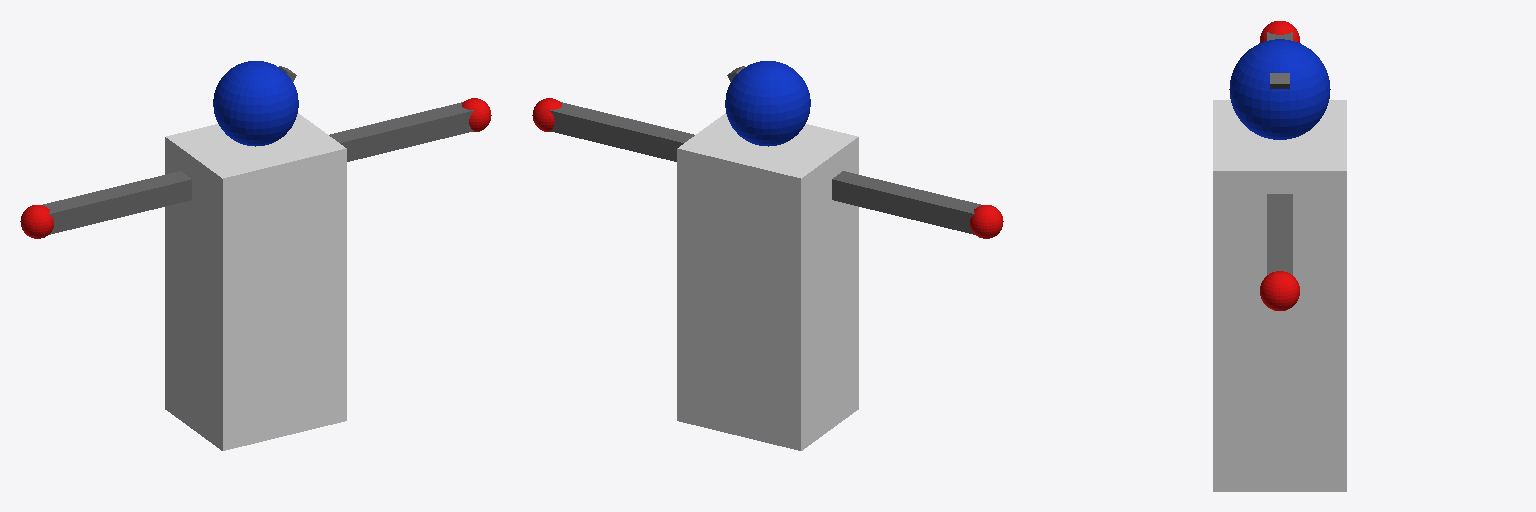
URDF robot description (testbot):
<?xml version="1.0" ?>
<!-- =================================================================================== -->
<!-- |    This document was autogenerated by xacro from install/testbot/share/testbot/urdf/testbot.urdf.xacro | -->
<!-- |    EDITING THIS FILE BY HAND IS NOT RECOMMENDED                                 | -->
<!-- =================================================================================== -->
<!--
  Tesla-bot style upper body.

  Kinematic chain (per the lesson):
      world -> head -> body -> shoulder -> upper_arm -> lower_arm -> hand

  world_to_head and head_to_body are fixed. Shoulders and elbows rotate
  about Z, so the arms swing in the XY plane like clock hands.
  At zero the hand is 0.3 + 0.3 = 0.6 m from the shoulder.
-->
<robot name="testbot">
  <material name="white">
    <color rgba="0.90 0.90 0.90 1.0"/>
  </material>
  <material name="grey">
    <color rgba="0.45 0.45 0.45 1.0"/>
  </material>
  <material name="blue">
    <color rgba="0.10 0.25 0.80 1.0"/>
  </material>
  <material name="red">
    <color rgba="0.90 0.10 0.10 1.0"/>
  </material>
  <!-- ============================ links ============================= -->
  <!-- Gazebo treats a root link named "world" as the fixed world frame -->
  <link name="world"/>
  <link name="head">
    <visual>
      <geometry>
        <sphere radius="0.15"/>
      </geometry>
      <origin rpy="0 0 0" xyz="0 0 0"/>
      <material name="blue"/>
    </visual>
    <collision>
      <geometry>
        <sphere radius="0.15"/>
      </geometry>
      <origin rpy="0 0 0" xyz="0 0 0"/>
    </collision>
    <inertial>
      <mass value="2.0"/>
      <origin rpy="0 0 0" xyz="0 0 0"/>
      <inertia ixx="0.018" ixy="0.0" ixz="0.0" iyy="0.018" iyz="0.0" izz="0.018"/>
    </inertial>
  </link>
  <!-- body frame at the top of the torso; the box reaches down to z = 0 -->
  <link name="body">
    <visual>
      <geometry>
        <box size="0.5 0.4 1.05"/>
      </geometry>
      <origin rpy="0 0 0" xyz="0 0 -0.525"/>
      <material name="white"/>
    </visual>
    <collision>
      <geometry>
        <box size="0.5 0.4 1.05"/>
      </geometry>
      <origin rpy="0 0 0" xyz="0 0 -0.525"/>
    </collision>
    <inertial>
      <mass value="10.0"/>
      <origin rpy="0 0 0" xyz="0 0 -0.525"/>
      <inertia ixx="1.0520833333333335" ixy="0.0" ixz="0.0" iyy="1.1270833333333334" iyz="0.0" izz="0.34166666666666673"/>
    </inertial>
  </link>
  <link name="upper_arm_right">
    <visual>
      <geometry>
        <box size="0.3 0.08 0.08"/>
      </geometry>
      <origin rpy="0 0 0" xyz="0.15 0 0"/>
      <material name="grey"/>
    </visual>
    <collision>
      <geometry>
        <box size="0.3 0.08 0.08"/>
      </geometry>
      <origin rpy="0 0 0" xyz="0.15 0 0"/>
    </collision>
    <inertial>
      <mass value="0.8"/>
      <origin rpy="0 0 0" xyz="0.15 0 0"/>
      <inertia ixx="0.0008533333333333334" ixy="0.0" ixz="0.0" iyy="0.006426666666666667" iyz="0.0" izz="0.006426666666666667"/>
    </inertial>
  </link>
  <link name="lower_arm_right">
    <visual>
      <geometry>
        <box size="0.3 0.08 0.08"/>
      </geometry>
      <origin rpy="0 0 0" xyz="0.15 0 0"/>
      <material name="grey"/>
    </visual>
    <collision>
      <geometry>
        <box size="0.3 0.08 0.08"/>
      </geometry>
      <origin rpy="0 0 0" xyz="0.15 0 0"/>
    </collision>
    <inertial>
      <mass value="0.5"/>
      <origin rpy="0 0 0" xyz="0.15 0 0"/>
      <inertia ixx="0.0005333333333333334" ixy="0.0" ixz="0.0" iyy="0.004016666666666667" iyz="0.0" izz="0.004016666666666667"/>
    </inertial>
  </link>
  <link name="hand_right">
    <visual>
      <geometry>
        <sphere radius="0.06"/>
      </geometry>
      <origin rpy="0 0 0" xyz="0 0 0"/>
      <material name="red"/>
    </visual>
    <collision>
      <geometry>
        <sphere radius="0.06"/>
      </geometry>
      <origin rpy="0 0 0" xyz="0 0 0"/>
    </collision>
    <inertial>
      <mass value="0.2"/>
      <origin rpy="0 0 0" xyz="0 0 0"/>
      <inertia ixx="0.00028799999999999995" ixy="0.0" ixz="0.0" iyy="0.00028799999999999995" iyz="0.0" izz="0.00028799999999999995"/>
    </inertial>
  </link>
  <!-- shoulder: revolute about Z -->
  <joint name="body_to_upper_arm_right" type="revolute">
    <parent link="body"/>
    <child link="upper_arm_right"/>
    <origin rpy="0 0 0" xyz="0.28 0 -0.1"/>
    <axis xyz="0 0 1"/>
    <limit effort="30.0" lower="-1.5708" upper="1.5708" velocity="2.0"/>
    <dynamics damping="0.5" friction="0.05"/>
  </joint>
  <!-- elbow: the joint the trajectory controller drives -->
  <joint name="upper_arm_to_lower_arm_right" type="revolute">
    <parent link="upper_arm_right"/>
    <child link="lower_arm_right"/>
    <origin rpy="0 0 0" xyz="0.3 0 0"/>
    <axis xyz="0 0 1"/>
    <limit effort="30.0" lower="-1.5708" upper="1.5708" velocity="2.0"/>
    <dynamics damping="0.1" friction="0.05"/>
  </joint>
  <joint name="lower_arm_to_hand_right" type="fixed">
    <parent link="lower_arm_right"/>
    <child link="hand_right"/>
    <origin rpy="0 0 0" xyz="0.3 0 0"/>
  </joint>
  <link name="upper_arm_left">
    <visual>
      <geometry>
        <box size="0.3 0.08 0.08"/>
      </geometry>
      <origin rpy="0 0 0" xyz="-0.15 0 0"/>
      <material name="grey"/>
    </visual>
    <collision>
      <geometry>
        <box size="0.3 0.08 0.08"/>
      </geometry>
      <origin rpy="0 0 0" xyz="-0.15 0 0"/>
    </collision>
    <inertial>
      <mass value="0.8"/>
      <origin rpy="0 0 0" xyz="-0.15 0 0"/>
      <inertia ixx="0.0008533333333333334" ixy="0.0" ixz="0.0" iyy="0.006426666666666667" iyz="0.0" izz="0.006426666666666667"/>
    </inertial>
  </link>
  <link name="lower_arm_left">
    <visual>
      <geometry>
        <box size="0.3 0.08 0.08"/>
      </geometry>
      <origin rpy="0 0 0" xyz="-0.15 0 0"/>
      <material name="grey"/>
    </visual>
    <collision>
      <geometry>
        <box size="0.3 0.08 0.08"/>
      </geometry>
      <origin rpy="0 0 0" xyz="-0.15 0 0"/>
    </collision>
    <inertial>
      <mass value="0.5"/>
      <origin rpy="0 0 0" xyz="-0.15 0 0"/>
      <inertia ixx="0.0005333333333333334" ixy="0.0" ixz="0.0" iyy="0.004016666666666667" iyz="0.0" izz="0.004016666666666667"/>
    </inertial>
  </link>
  <link name="hand_left">
    <visual>
      <geometry>
        <sphere radius="0.06"/>
      </geometry>
      <origin rpy="0 0 0" xyz="0 0 0"/>
      <material name="red"/>
    </visual>
    <collision>
      <geometry>
        <sphere radius="0.06"/>
      </geometry>
      <origin rpy="0 0 0" xyz="0 0 0"/>
    </collision>
    <inertial>
      <mass value="0.2"/>
      <origin rpy="0 0 0" xyz="0 0 0"/>
      <inertia ixx="0.00028799999999999995" ixy="0.0" ixz="0.0" iyy="0.00028799999999999995" iyz="0.0" izz="0.00028799999999999995"/>
    </inertial>
  </link>
  <!-- shoulder: revolute about Z -->
  <joint name="body_to_upper_arm_left" type="revolute">
    <parent link="body"/>
    <child link="upper_arm_left"/>
    <origin rpy="0 0 0" xyz="-0.28 0 -0.1"/>
    <axis xyz="0 0 1"/>
    <limit effort="30.0" lower="-1.5708" upper="1.5708" velocity="2.0"/>
    <dynamics damping="0.5" friction="0.05"/>
  </joint>
  <!-- elbow: the joint the trajectory controller drives -->
  <joint name="upper_arm_to_lower_arm_left" type="revolute">
    <parent link="upper_arm_left"/>
    <child link="lower_arm_left"/>
    <origin rpy="0 0 0" xyz="-0.3 0 0"/>
    <axis xyz="0 0 1"/>
    <limit effort="30.0" lower="-1.5708" upper="1.5708" velocity="2.0"/>
    <dynamics damping="0.1" friction="0.05"/>
  </joint>
  <joint name="lower_arm_to_hand_left" type="fixed">
    <parent link="lower_arm_left"/>
    <child link="hand_left"/>
    <origin rpy="0 0 0" xyz="-0.3 0 0"/>
  </joint>
  <!-- camera on the head, looking forward and tilted down towards the hands -->
  <link name="camera_link">
    <visual>
      <geometry>
        <box size="0.04 0.06 0.04"/>
      </geometry>
      <origin rpy="0 0 0" xyz="0 0 0"/>
      <material name="grey"/>
    </visual>
    <collision>
      <geometry>
        <box size="0.04 0.06 0.04"/>
      </geometry>
      <origin rpy="0 0 0" xyz="0 0 0"/>
    </collision>
    <inertial>
      <mass value="0.1"/>
      <origin rpy="0 0 0" xyz="0 0 0"/>
      <inertia ixx="0.0000433" ixy="0.0" ixz="0.0" iyy="0.0000267" iyz="0.0" izz="0.0000433"/>
    </inertial>
  </link>
  <!-- optical frame: z forward, x right, y down (REP-103) -->
  <link name="camera_link_optical"/>
  <!-- =========================== joints ============================= -->
  <joint name="world_to_head" type="fixed">
    <parent link="world"/>
    <child link="head"/>
    <origin rpy="0 0 0" xyz="0 0 1.2"/>
  </joint>
  <joint name="head_to_body" type="fixed">
    <parent link="head"/>
    <child link="body"/>
    <origin rpy="0 0 0" xyz="0 0 -0.15"/>
  </joint>
  <!-- eye-level camera, tilted down ~0.5 rad to frame the hands -->
  <joint name="head_to_camera" type="fixed">
    <parent link="head"/>
    <child link="camera_link"/>
    <origin rpy="0 0.5 0" xyz="0.12 0 0.08"/>
  </joint>
  <joint name="camera_optical_joint" type="fixed">
    <parent link="camera_link"/>
    <child link="camera_link_optical"/>
    <origin rpy="-1.5708 0 -1.5708" xyz="0 0 0"/>
  </joint>
  <!-- ====================== ros2_control ============================ -->
  <ros2_control name="GazeboSimSystem" type="system">
    <hardware>
      <plugin>gz_ros2_control/GazeboSimSystem</plugin>
    </hardware>
    <!-- elbows: position command + full state feedback -->
    <joint name="upper_arm_to_lower_arm_right">
      <command_interface name="position"/>
      <state_interface name="position"/>
      <state_interface name="velocity"/>
      <state_interface name="effort"/>
    </joint>
    <joint name="upper_arm_to_lower_arm_left">
      <command_interface name="position"/>
      <state_interface name="position"/>
      <state_interface name="velocity"/>
      <state_interface name="effort"/>
    </joint>
    <!-- passive shoulders: state only, so joint_state_broadcaster
         reports them and robot_state_publisher can build their TF -->
    <joint name="body_to_upper_arm_right">
      <state_interface name="position"/>
      <state_interface name="velocity"/>
      <state_interface name="effort"/>
    </joint>
    <joint name="body_to_upper_arm_left">
      <state_interface name="position"/>
      <state_interface name="velocity"/>
      <state_interface name="effort"/>
    </joint>
  </ros2_control>
  <!-- ====================== Gazebo plugin =========================== -->
  <gazebo>
    <plugin filename="gz_ros2_control-system" name="gz_ros2_control::GazeboSimROS2ControlPlugin">
      <parameters>/home/kunal/ros2_ws1/install/testbot/share/testbot/config/controllers.yaml</parameters>
    </plugin>
  </gazebo>
  <!--
    Gazebo Harmonic camera sensor. There is no libgazebo_ros_camera.so:
    gz-sim-sensors-system (in the world file) renders it, and
    ros_gz_bridge converts the gz.msgs.Image / CameraInfo to ROS.
  -->
  <gazebo reference="camera_link">
    <sensor name="camera" type="camera">
      <pose>0 0 0 0 0 0</pose>
      <visualize>true</visualize>
      <always_on>true</always_on>
      <update_rate>30</update_rate>
      <topic>camera/image_raw</topic>
      <camera>
        <camera_info_topic>camera/camera_info</camera_info_topic>
        <horizontal_fov>1.0</horizontal_fov>
        <image>
          <format>R8G8B8</format>
          <width>640</width>
          <height>480</height>
        </image>
        <clip>
          <near>0.05</near>
          <far>100.0</far>
        </clip>
        <optical_frame_id>camera_link_optical</optical_frame_id>
      </camera>
    </sensor>
  </gazebo>
</robot>

--- Render facts (derived) ---
The picture shows the robot from 3 angles, left to right: view 1: azimuth 30°, elevation 25°; view 2: azimuth 150°, elevation 25°; view 3: azimuth 270°, elevation 25°; orthographic projection.
Model testbot with 11 links and 10 joints (4 revolute, 6 fixed), rooted at world, posed all joints at 0.
Visible links, largest first — view 1: body, head, upper_arm_left, lower_arm_left, lower_arm_right, upper_arm_right, hand_left, hand_right; view 2: body, head, upper_arm_left, lower_arm_left, lower_arm_right, upper_arm_right, hand_left, hand_right; view 3: body, head, hand_right, upper_arm_right, lower_arm_right.
Boxes of the visible links, x1,y1,x2,y2 form: body: [165, 113, 346, 450]; head: [213, 61, 298, 146]; upper_arm_left: [107, 171, 191, 217]; lower_arm_left: [43, 189, 117, 234]; lower_arm_right: [395, 102, 474, 147]; upper_arm_right: [329, 119, 405, 161]; hand_left: [20, 205, 53, 238]; hand_right: [462, 98, 491, 131]; body: [677, 113, 858, 450]; head: [725, 61, 810, 146]; upper_arm_left: [832, 171, 916, 217]; lower_arm_left: [906, 189, 980, 234]; lower_arm_right: [549, 102, 628, 147]; upper_arm_right: [618, 119, 694, 161]; hand_left: [970, 205, 1003, 238]; hand_right: [532, 98, 561, 131]; body: [1213, 100, 1346, 491]; head: [1229, 39, 1330, 139]; hand_right: [1260, 271, 1299, 310]; upper_arm_right: [1267, 194, 1292, 235]; lower_arm_right: [1267, 236, 1292, 274].
Bounding box of the posed robot: 1.88 × 0.4 × 1.35 m (x, y, z).
Geometry: primitives only (box / cylinder / sphere), no mesh files.
